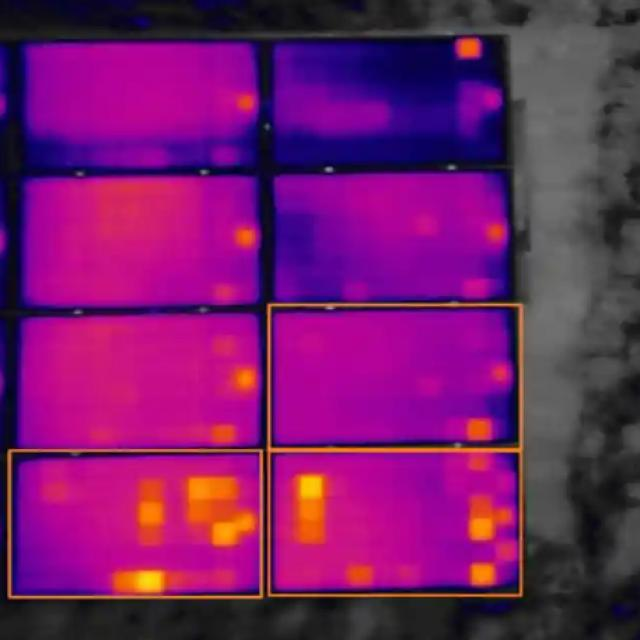hotspot group: (105, 461, 264, 596), (455, 450, 527, 589), (284, 465, 345, 559)
panel with hotspots: (5, 450, 264, 607), (271, 446, 523, 597)
